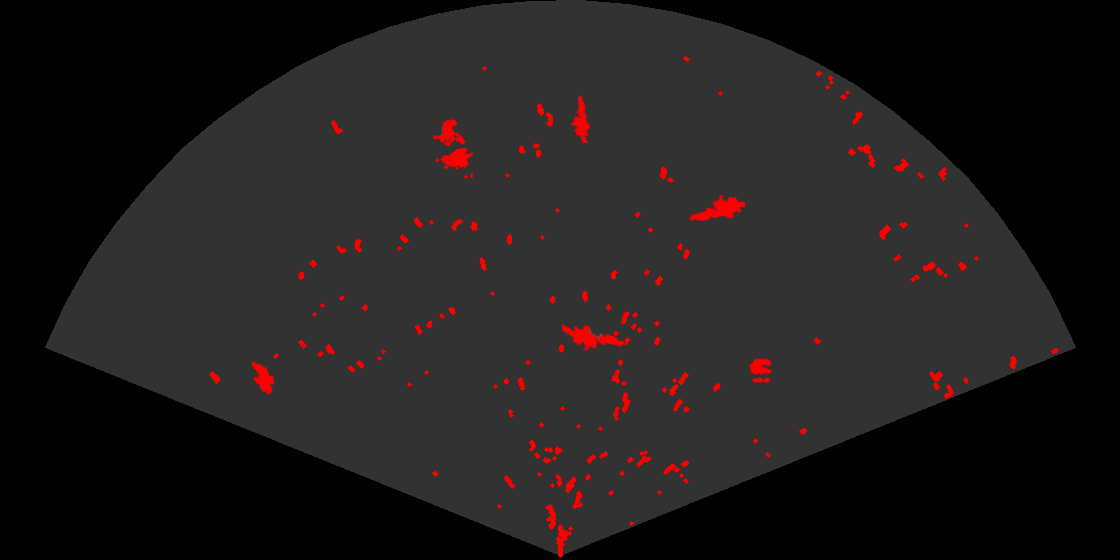AUV: (250, 360, 276, 396)
ball: (748, 357, 774, 384)
cage: (431, 117, 473, 178)
frogman: (562, 322, 626, 352), (688, 193, 745, 223), (569, 94, 592, 143)
